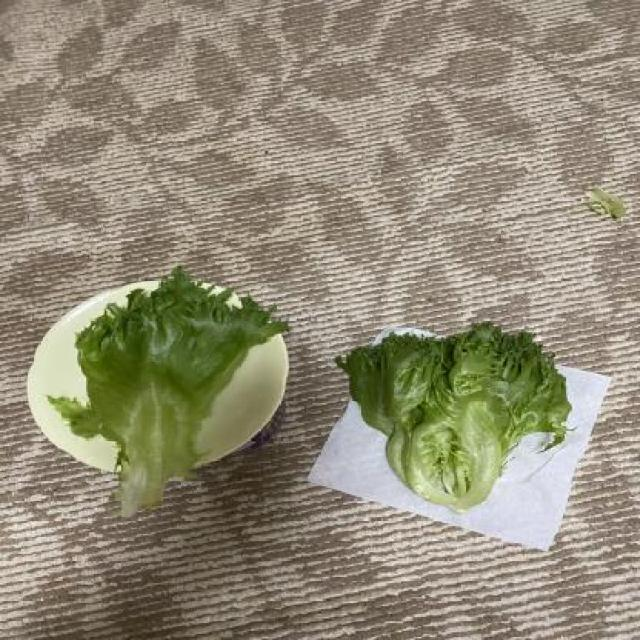Lettuce: (56, 267, 292, 521), (339, 318, 581, 513)
